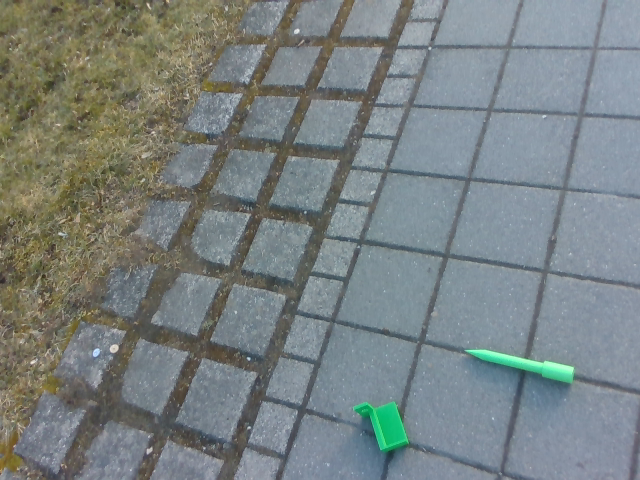Probe: (459, 341, 579, 388)
